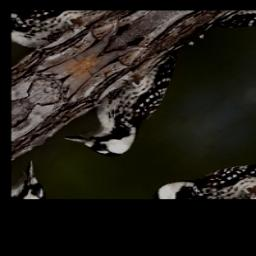Woodpecker: (48, 44, 221, 174)
